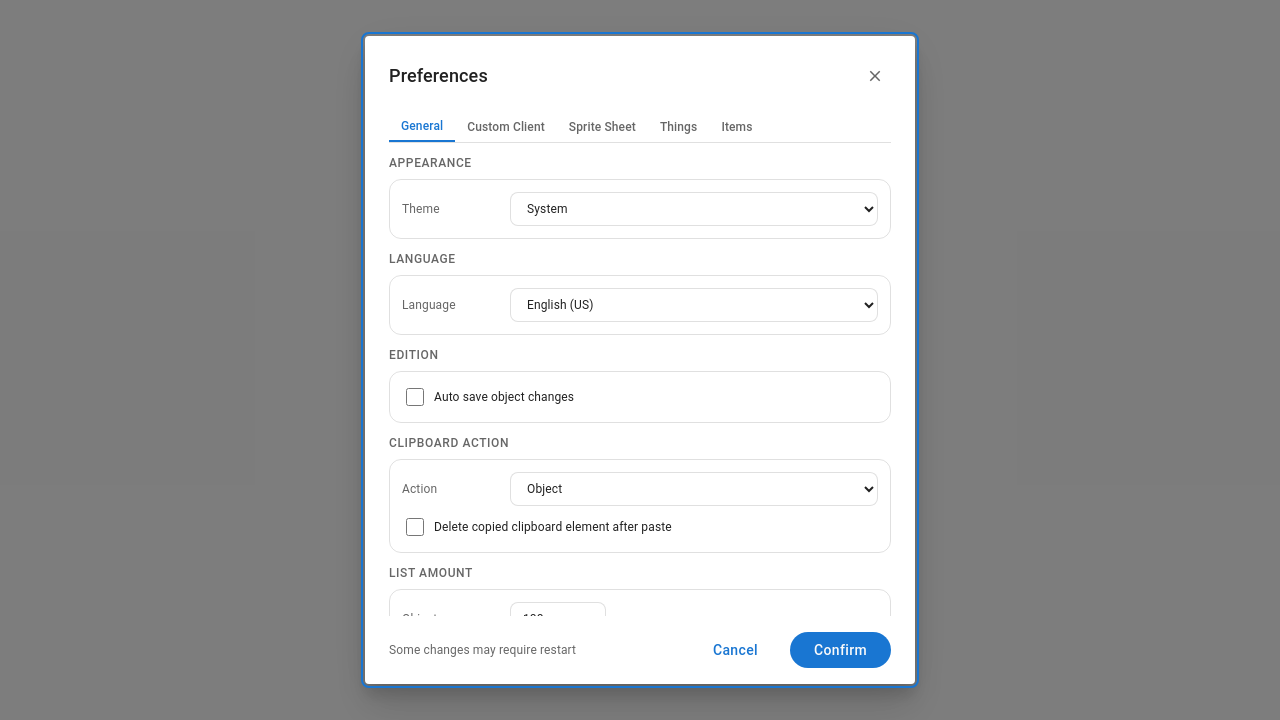
Scenario: PreferencesDialog › Things tab shows duration fields for Items, Outfits, Effects, Missiles
The image size is (1280, 720).
Click the button "Things" at (679, 127), box [648, 112, 709, 142]
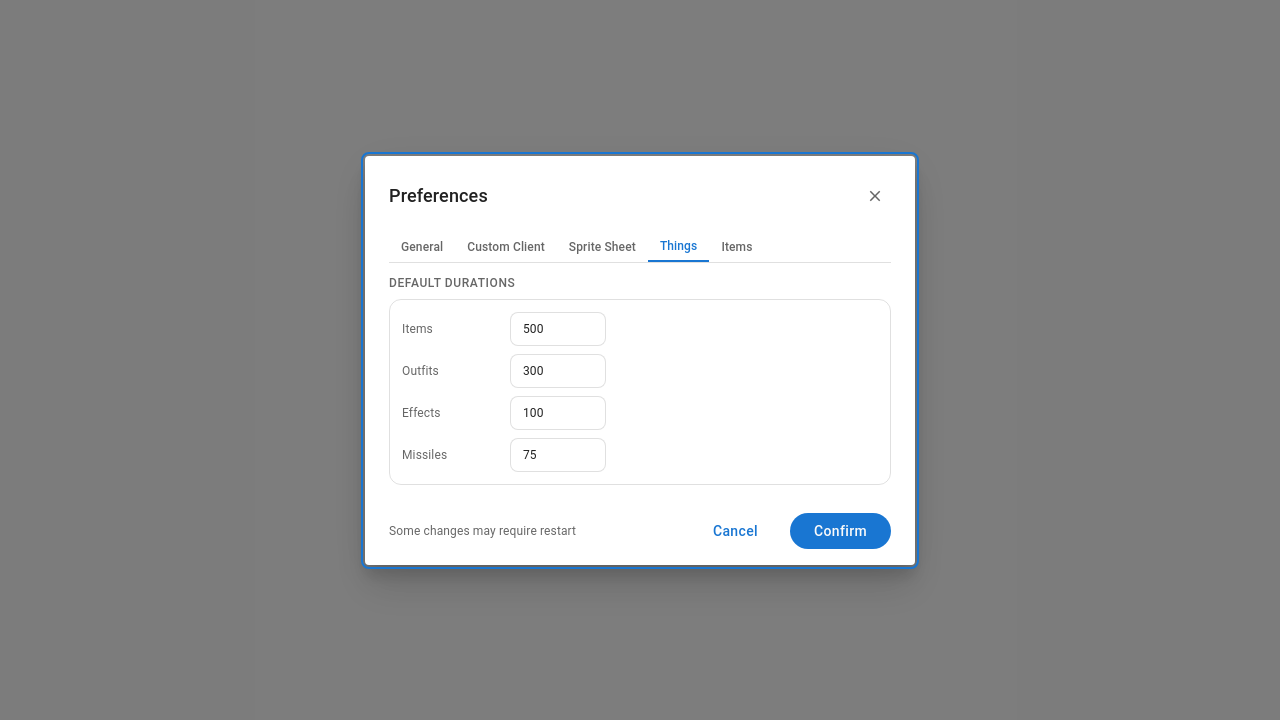
expect the text "Default durations" is shown: met, box [389, 276, 515, 290]
expect the text "Outfits" is shown: met, box [402, 364, 439, 378]
expect the text "Effects" is shown: met, box [402, 406, 441, 420]
